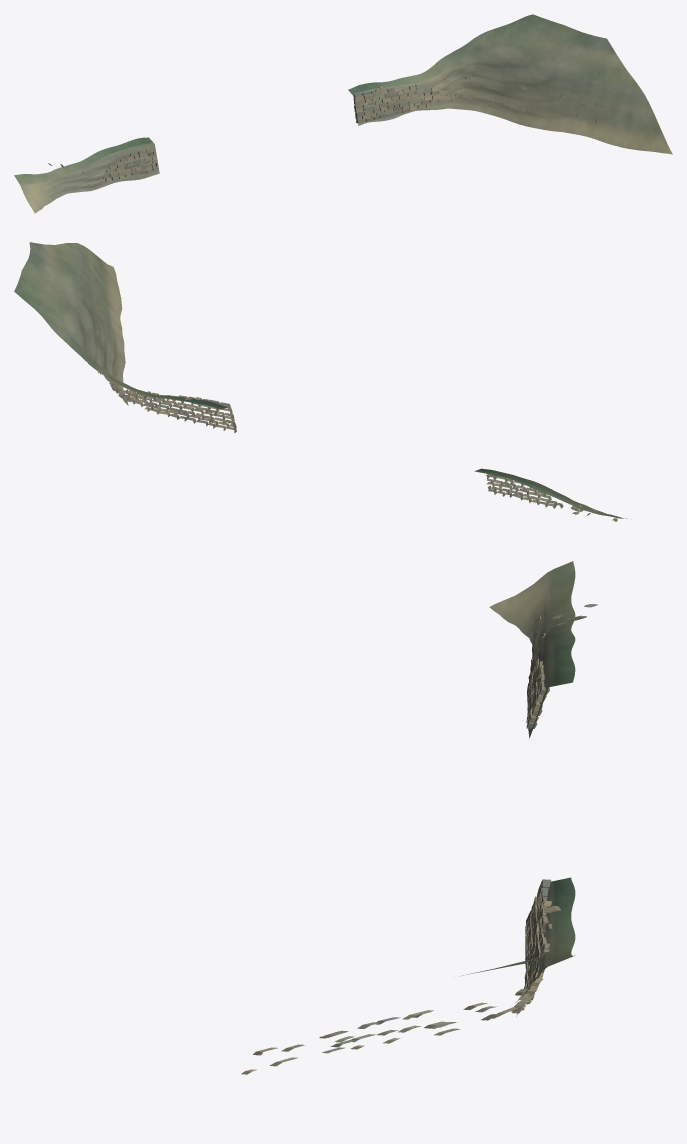
Rendered from moonwash-shoulder-returns.glb.
The picture shows the model from 3 angles, top to bottom: view 1: azimuth 30°, elevation 25°; view 2: azimuth 150°, elevation 25°; view 3: azimuth 270°, elevation 25°; orthographic projection. The views are drawn at different scales.
Parts seen in each view (by area): view 1: Mineral backfill returns | taper to natural shoulder, Dry laid limestone returns | paired courses and spalls; view 2: Mineral backfill returns | taper to natural shoulder, Dry laid limestone returns | paired courses and spalls; view 3: Mineral backfill returns | taper to natural shoulder, Dry laid limestone returns | paired courses and spalls.
Boxes of the visible parts, box(x1,y1,x2,y2) form: Mineral backfill returns | taper to natural shoulder: box(14, 14, 672, 213); Dry laid limestone returns | paired courses and spalls: box(48, 77, 604, 187); Mineral backfill returns | taper to natural shoulder: box(14, 242, 627, 518); Dry laid limestone returns | paired courses and spalls: box(94, 282, 617, 521); Mineral backfill returns | taper to natural shoulder: box(460, 561, 575, 1016); Dry laid limestone returns | paired courses and spalls: box(241, 604, 597, 1074).
Size of the model in its own units: 146 by 18.48 by 59.86.
2 materials, 2 textured.
